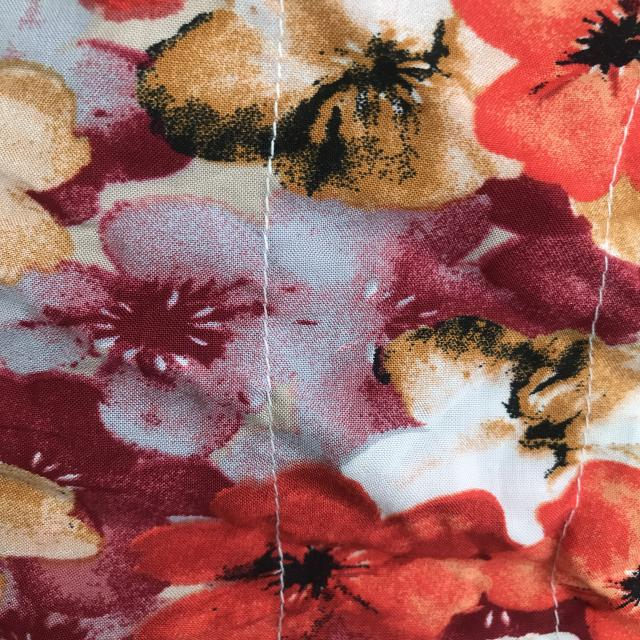good: (253, 194, 287, 440), (258, 477, 300, 610), (259, 47, 296, 156)
